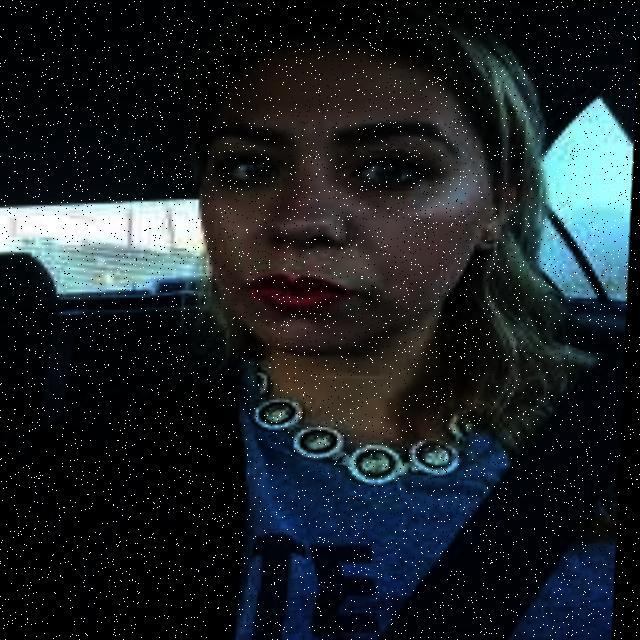seatbelt: (128, 298, 630, 640)
